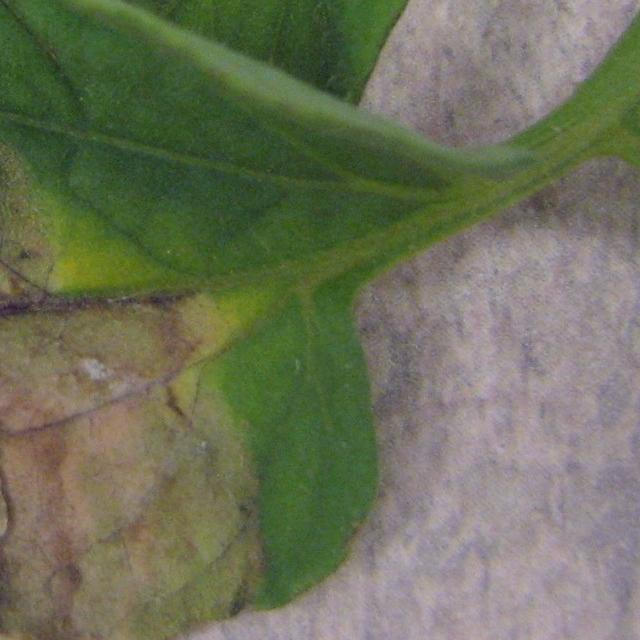Tomato leaf late blight: (0, 0, 492, 640)
